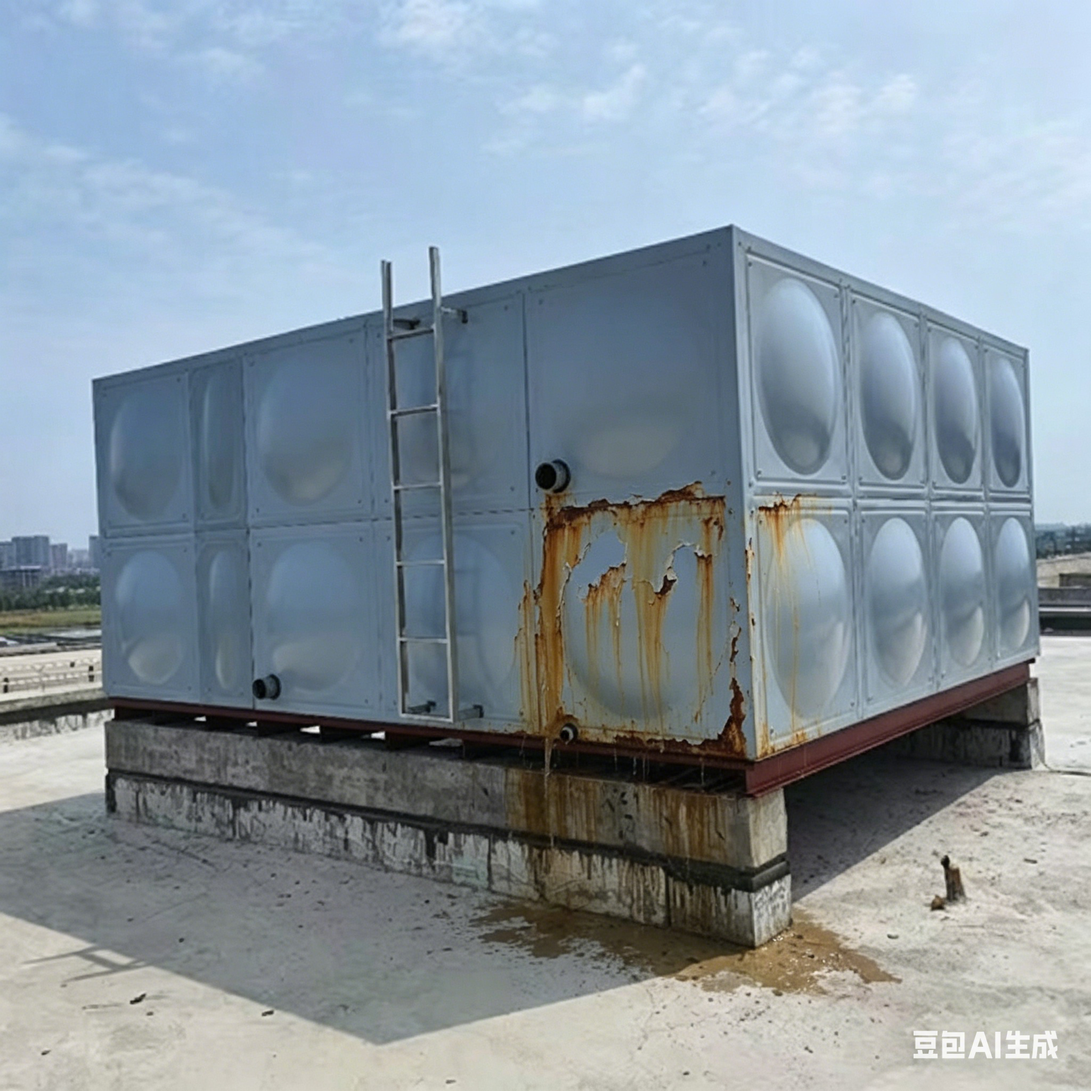Leakage: (606, 902, 915, 1005), (523, 722, 592, 953)
